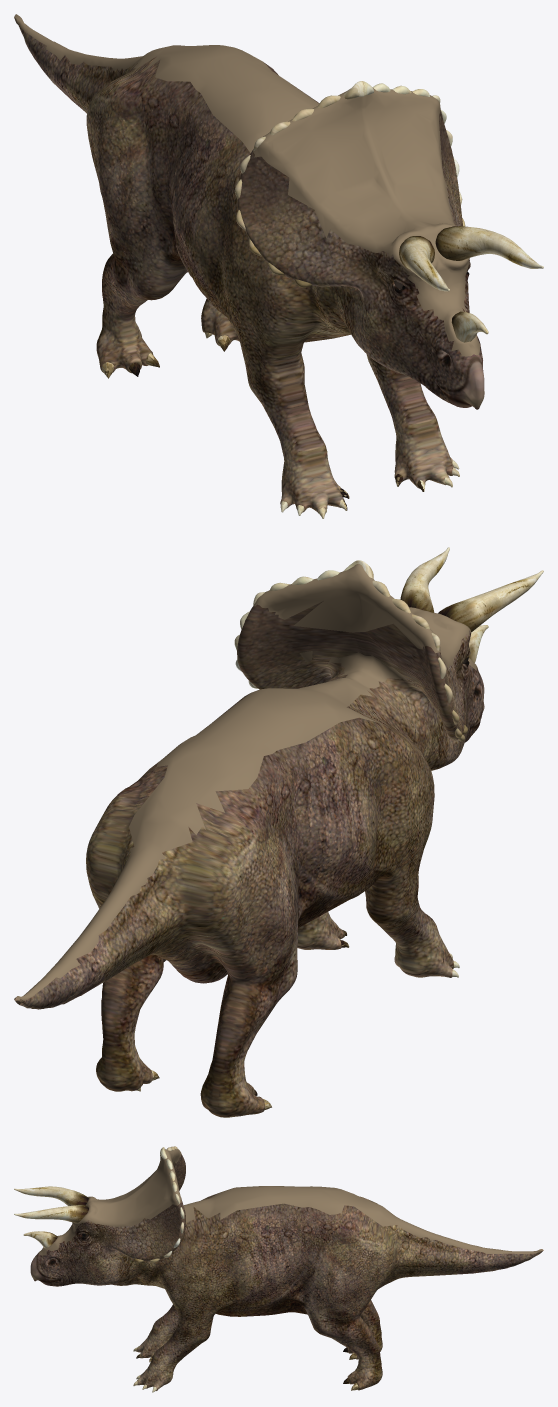
Rendered from Triceratops.FBX.
3 renders of one model, top to bottom at view 1: azimuth 30°, elevation 25°; view 2: azimuth 150°, elevation 25°; view 3: azimuth 270°, elevation 25°, orthographic. The views are drawn at different scales.
Visible parts, largest first — view 1: TRIDori, TRICuerI, TRICrest, TRICuerD, TRICuerC; view 2: TRIDori, TRICuerD, TRICrest, TRICuerI; view 3: TRIDori, TRICuerI, TRICuerD, TRICrest, TRICuerC.
Boxes of the visible parts, <box> form: TRIDori: <box>14,14,484,513</box>; TRICuerI: <box>435,226,543,268</box>; TRICrest: <box>235,81,465,287</box>; TRICuerD: <box>399,236,449,291</box>; TRICuerC: <box>451,311,488,342</box>; TRIDori: <box>14,564,484,1117</box>; TRICuerD: <box>438,570,543,631</box>; TRICrest: <box>234,560,467,741</box>; TRICuerI: <box>400,547,449,612</box>; TRIDori: <box>30,1149,543,1390</box>; TRICuerI: <box>14,1205,88,1223</box>; TRICuerD: <box>14,1186,88,1205</box>; TRICrest: <box>134,1146,184,1262</box>; TRICuerC: <box>23,1231,57,1248</box>.
Bounding box in the file's own units: 2762 × 4790 × 10357.
